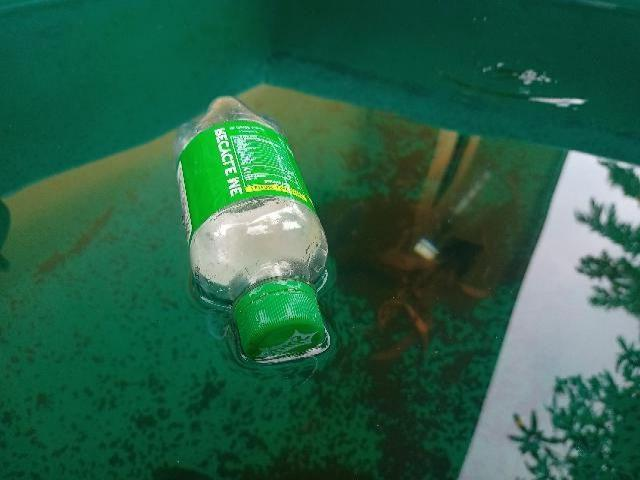Bottle: (174, 96, 334, 374)
